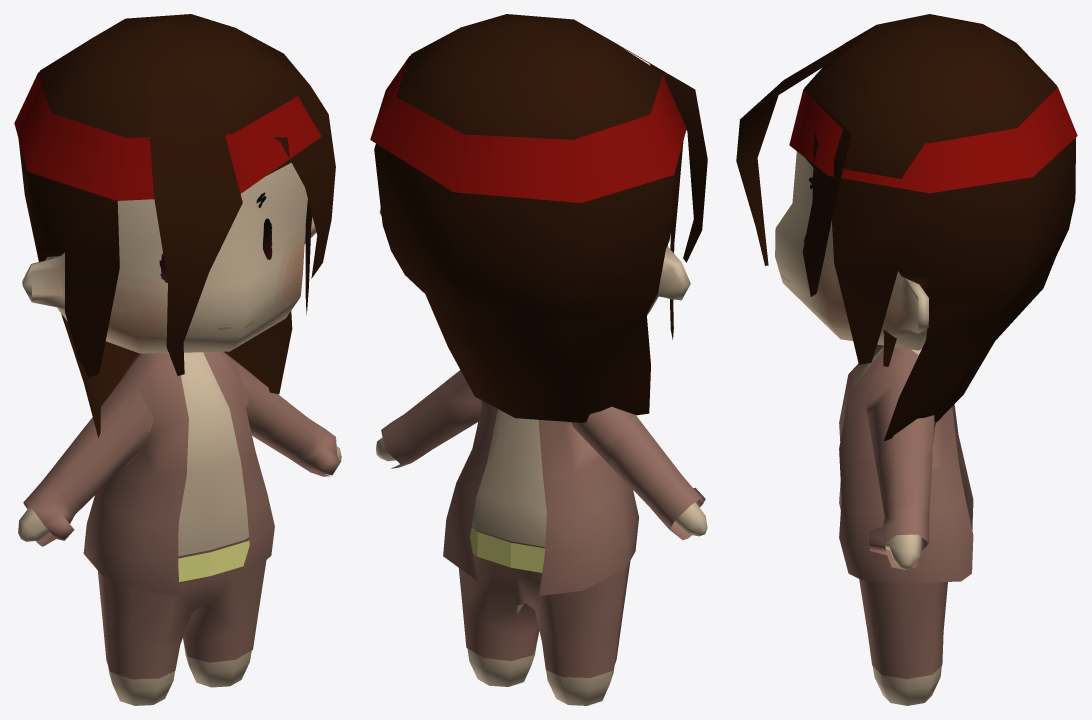
Rendered from badang.glb.
3 renders of one model, left to right at view 1: azimuth 30°, elevation 25°; view 2: azimuth 150°, elevation 25°; view 3: azimuth 270°, elevation 25°, orthographic. The views are drawn at different scales.
Visible parts, largest first — view 1: Chibi_base.003, Chibi_base.002, Chibi_base.004, Chibi_base.001, Chibi_base.005, Chibi_base.006; view 2: Chibi_base.003, Chibi_base.004, Chibi_base.001, Chibi_base.005, Chibi_base.002, Chibi_base.006; view 3: Chibi_base.003, Chibi_base.004, Chibi_base.001, Chibi_base.002, Chibi_base.005.
Boxes of the visible parts, bbox=[...] form: Chibi_base.003: bbox=[18, 14, 335, 437]; Chibi_base.002: bbox=[18, 162, 341, 705]; Chibi_base.004: bbox=[23, 351, 339, 596]; Chibi_base.001: bbox=[14, 72, 321, 200]; Chibi_base.005: bbox=[97, 537, 266, 679]; Chibi_base.006: bbox=[178, 540, 249, 581]; Chibi_base.003: bbox=[374, 14, 707, 422]; Chibi_base.004: bbox=[381, 370, 705, 595]; Chibi_base.001: bbox=[370, 55, 686, 202]; Chibi_base.005: bbox=[458, 526, 630, 677]; Chibi_base.002: bbox=[376, 207, 707, 705]; Chibi_base.006: bbox=[470, 527, 544, 572]; Chibi_base.003: bbox=[736, 14, 1075, 441]; Chibi_base.004: bbox=[839, 344, 973, 583]; Chibi_base.001: bbox=[789, 86, 1077, 193]; Chibi_base.002: bbox=[775, 151, 941, 705]; Chibi_base.005: bbox=[859, 579, 947, 679].
Bounding box in the file's own units: 1.68 × 3.3 × 1.56.
Materials: 6 (1 with a texture image).
